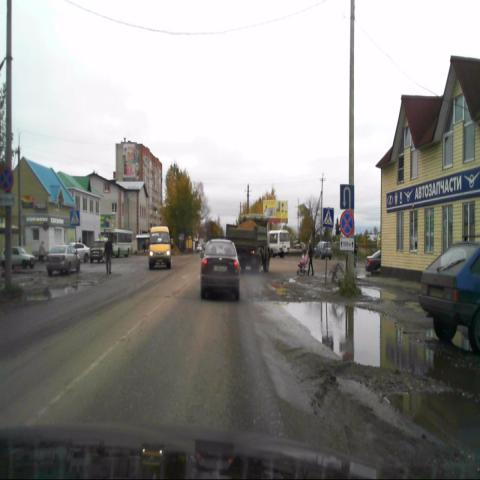6_3_1: (340, 184, 354, 210)
